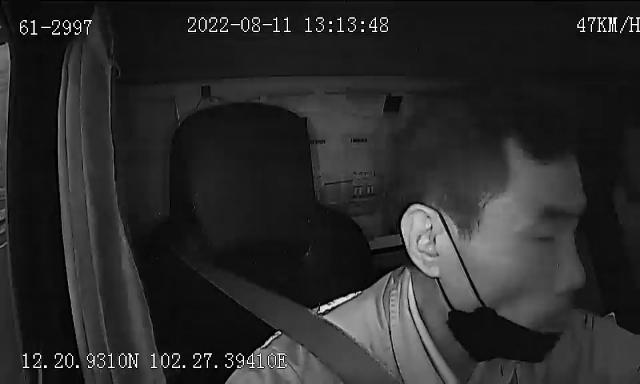Seatbelt: (168, 222, 412, 384)
